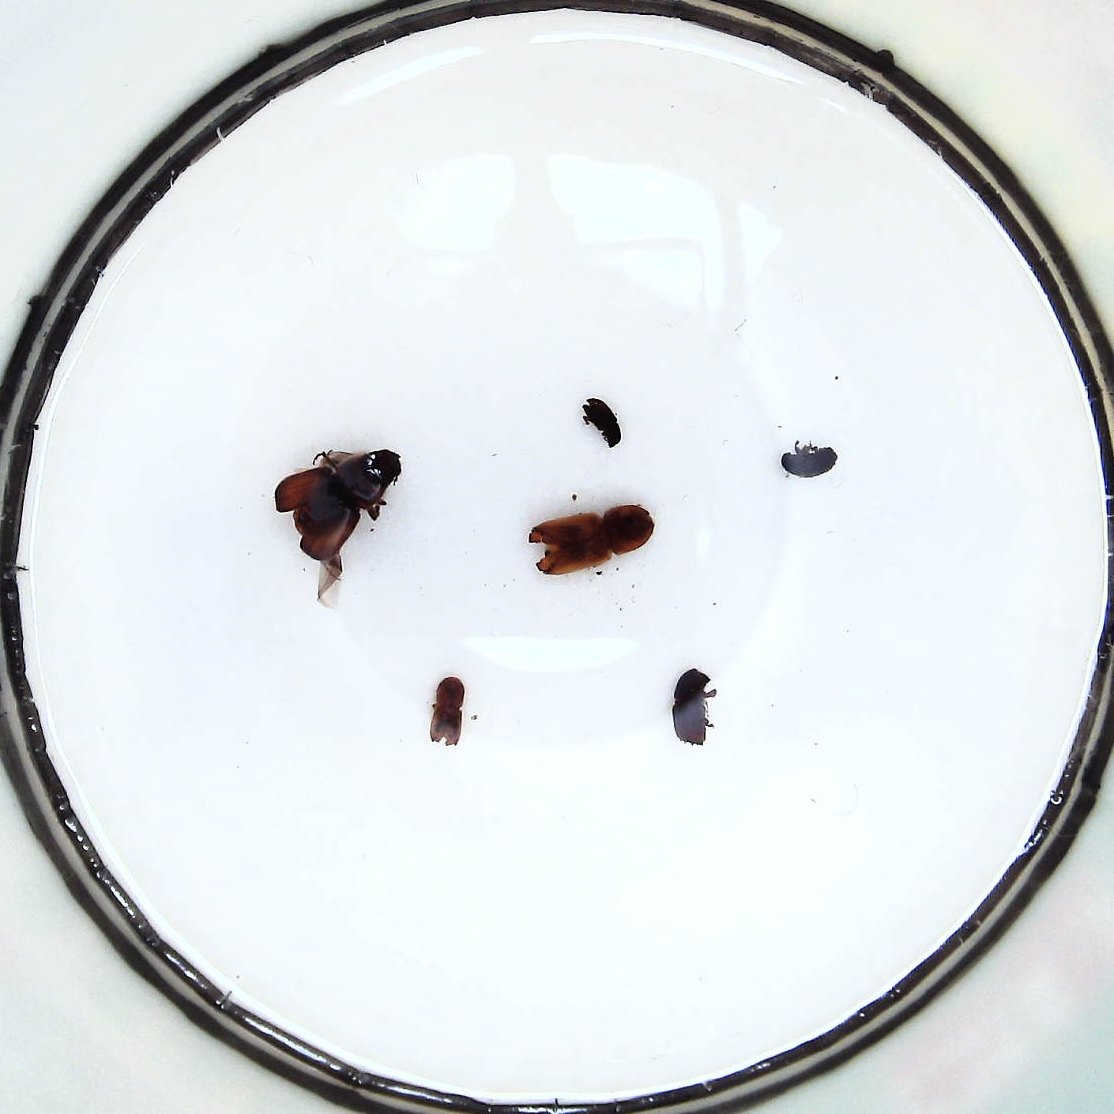Boerner: (529, 505, 655, 575)
Leconte: (276, 451, 402, 560)
acuminatus: (780, 446, 838, 477)
armandi: (429, 675, 465, 747)
coleoptera: (583, 397, 622, 448)
linnaeus: (671, 667, 710, 745)
